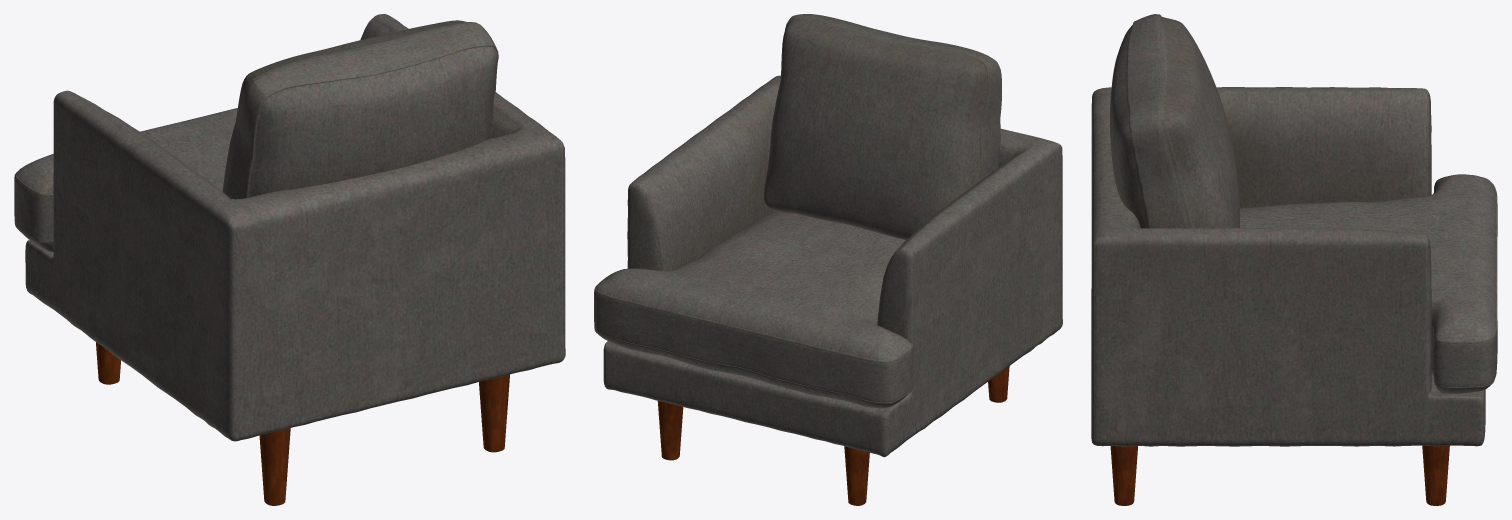
Rendered from abo_B07HYY8Z7P.glb.
The picture shows the model from 3 angles, left to right: view 1: azimuth 30°, elevation 25°; view 2: azimuth 150°, elevation 25°; view 3: azimuth 270°, elevation 25°; orthographic projection. The views are drawn at different scales.
Parts seen in each view (by area): view 1: RootNode; view 2: RootNode; view 3: RootNode.
Part boxes in pixels (x1,y1,x2,y2): RootNode: (14, 14, 565, 505); RootNode: (594, 14, 1062, 505); RootNode: (1091, 14, 1497, 505).
Size of the model in its own units: 0.8578 by 0.9575 by 0.8995.
Materials: 1 (1 with a texture image).
